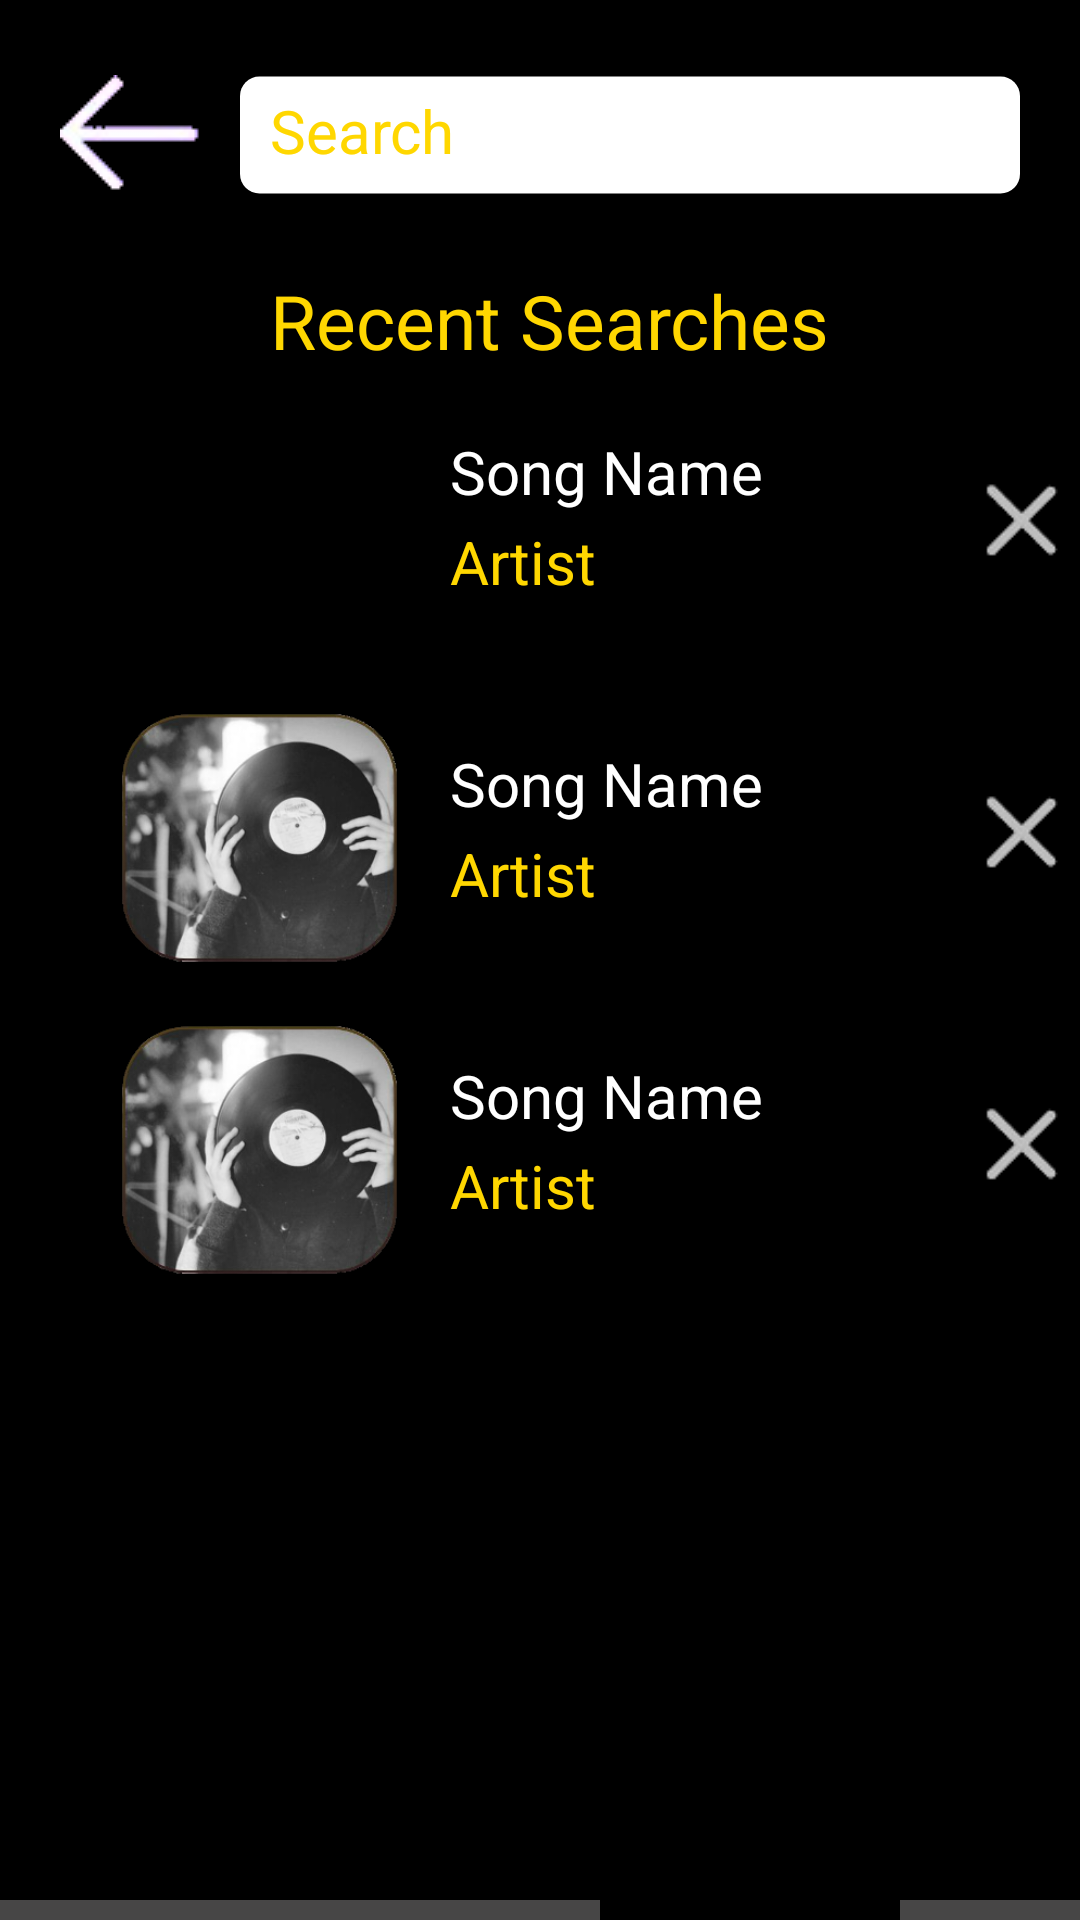

Icon bounding boxes for this 1080px×1920px phone screenshot, format {"x1": x1, "y1": y1, "x2": x2, "y2": y2}:
back: {"x1": 60, "y1": 75, "x2": 199, "y2": 190}
cross: {"x1": 986, "y1": 484, "x2": 1057, "y2": 556}, {"x1": 986, "y1": 796, "x2": 1057, "y2": 868}, {"x1": 986, "y1": 1108, "x2": 1057, "y2": 1180}
disk: {"x1": 122, "y1": 714, "x2": 397, "y2": 962}, {"x1": 122, "y1": 1026, "x2": 397, "y2": 1274}
